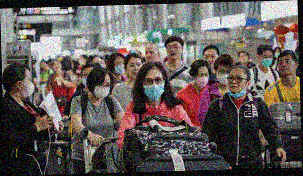mask_weared_incorrect: (227, 73, 248, 94)
with_mask: (142, 75, 166, 102), (216, 66, 232, 87), (21, 76, 35, 98), (93, 81, 111, 98), (195, 71, 210, 89), (80, 71, 93, 89), (260, 53, 274, 69), (114, 59, 127, 75), (274, 50, 283, 60)
without_mask: (277, 57, 297, 75), (126, 61, 144, 80), (167, 42, 182, 61), (203, 52, 218, 68), (144, 48, 158, 63), (52, 62, 62, 73), (240, 53, 250, 64)
